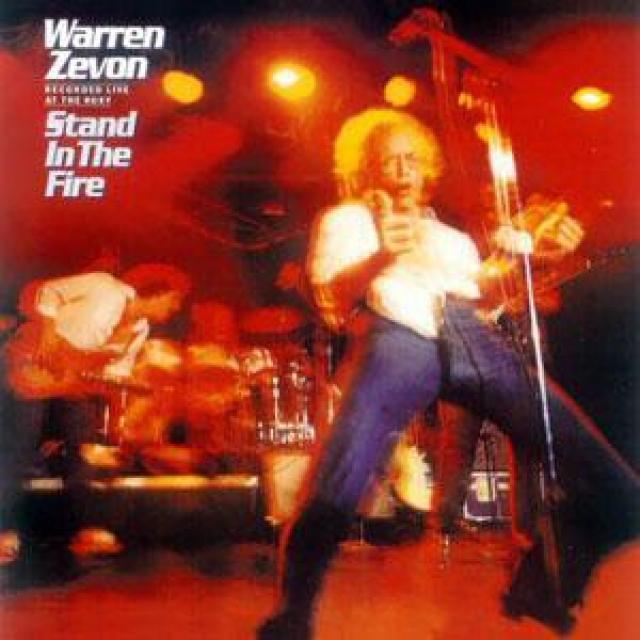other: (462, 117, 528, 196), (242, 42, 322, 99)
